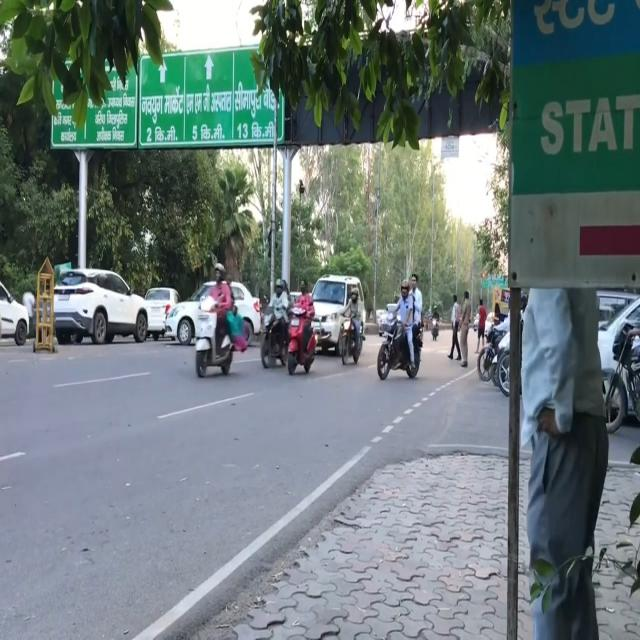Scooty: (195, 274, 238, 390), (287, 296, 318, 380)
